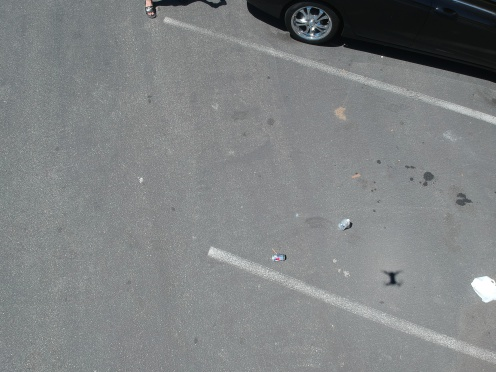bottle: (335, 215, 356, 232)
can: (264, 250, 293, 266)
